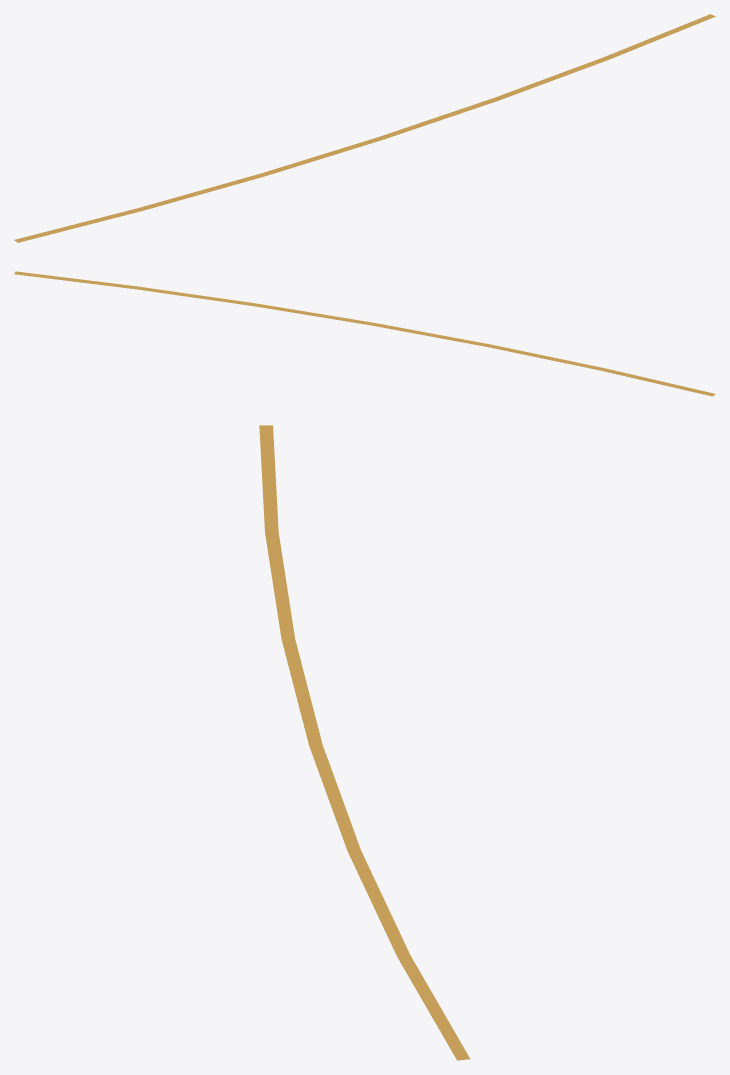
The model's file is RoadPlan_CurveMarking_2L_A15_R36_Center.glb.
The picture shows the model from 3 angles, top to bottom: view 1: azimuth 30°, elevation 25°; view 2: azimuth 150°, elevation 25°; view 3: azimuth 270°, elevation 25°; orthographic projection. The views are drawn at different scales.
Parts seen in each view (by area): view 1: RoadPlan_CurveMarking_2L_A15_R36_Center; view 2: RoadPlan_CurveMarking_2L_A15_R36_Center; view 3: RoadPlan_CurveMarking_2L_A15_R36_Center.
Part boxes in pixels (x1,y1,x2,y2): RoadPlan_CurveMarking_2L_A15_R36_Center: (14,14,715,242); RoadPlan_CurveMarking_2L_A15_R36_Center: (14,271,715,396); RoadPlan_CurveMarking_2L_A15_R36_Center: (259,425,470,1060).
Size of the model in its own units: 9.33 by 0.0007 by 1.31.
